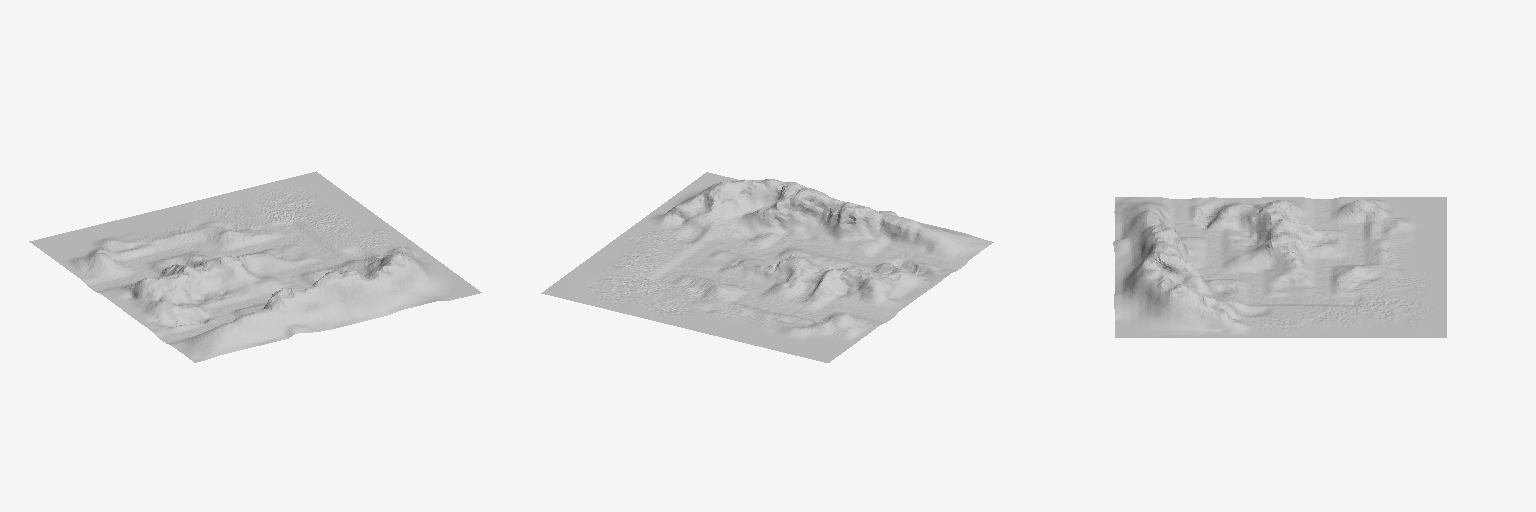
Rendered from Worden_GroundPlaneForShader.OBJ.
The picture shows the model from 3 angles: view 1: azimuth 30°, elevation 25°; view 2: azimuth 150°, elevation 25°; view 3: azimuth 270°, elevation 25°; orthographic projection.
Visible parts, largest first — view 1: Group2; view 2: Group2; view 3: Group2.
Part boxes in pixels (left/top/right/bottom): Group2: left=29, top=171, right=481, bottom=362; Group2: left=541, top=172, right=993, bottom=362; Group2: left=1113, top=197, right=1446, bottom=337.
Size of the model in its own units: 19.89 by 2.58 by 19.96.